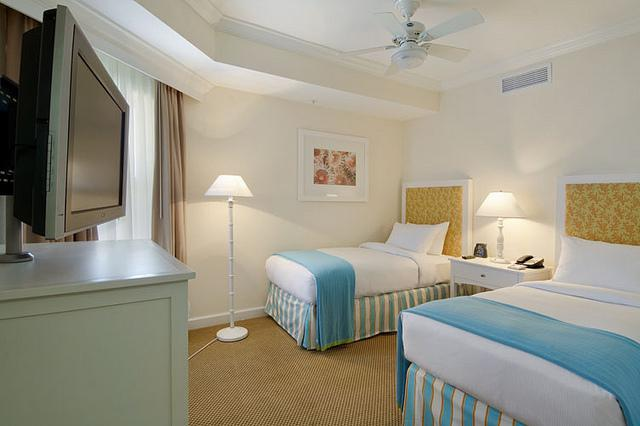tv: (0, 0, 131, 254)
